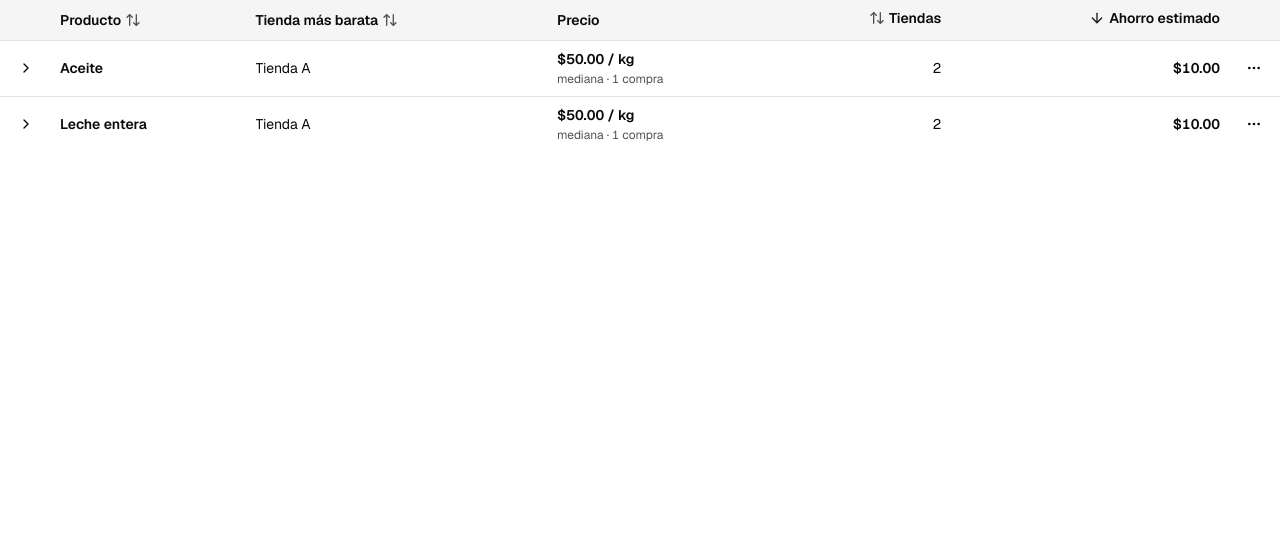
Test: expander (D-07) › opens and closes the panel of a row and keeps the label in sync
Expected: the text "Precios por tienda" is not shown
Click the button named "Ver precios de Leche entera": (26, 124) [8,106,44,142]
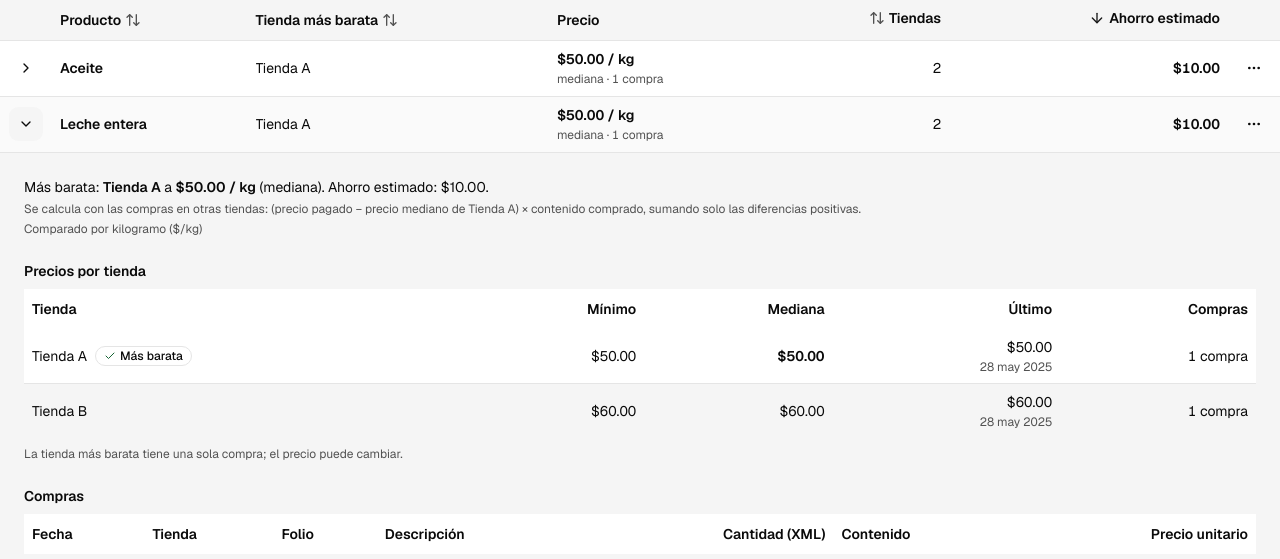
Now the button named "Ocultar precios de Leche entera" is expanded
Click the button named "Ocultar precios de Leche entera": (26, 124) [8,106,44,142]
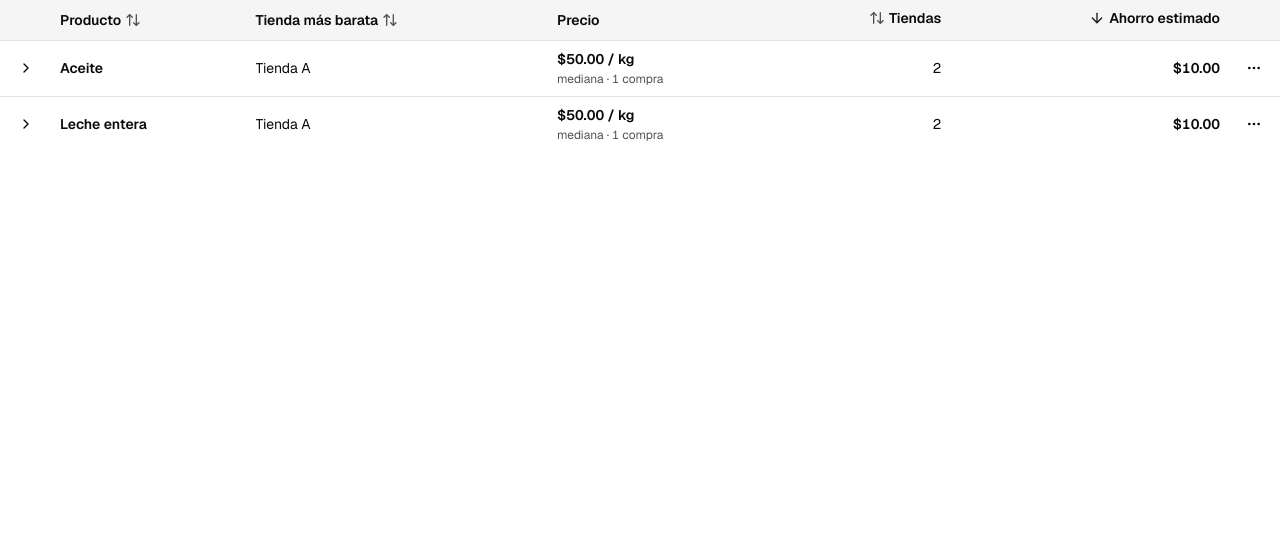
Now the button named "Ver precios de Leche entera" is collapsed, box [8,106,44,142]
Now the heading "Precios por tienda" is gone
